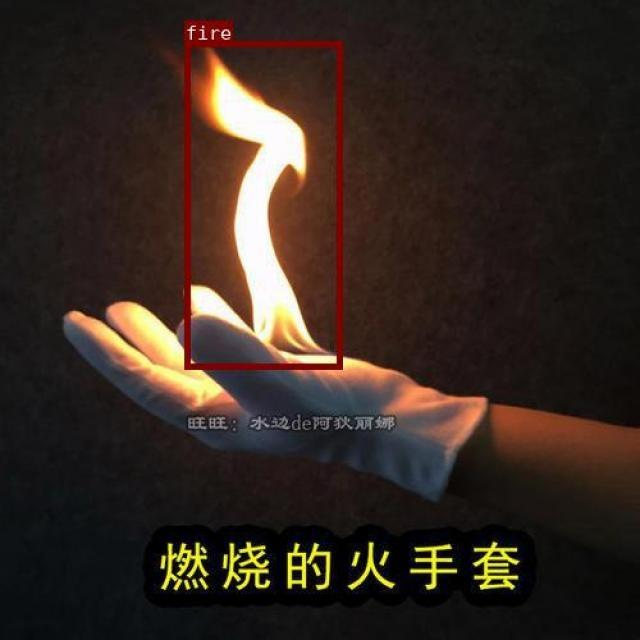fire: (183, 40, 341, 368)
